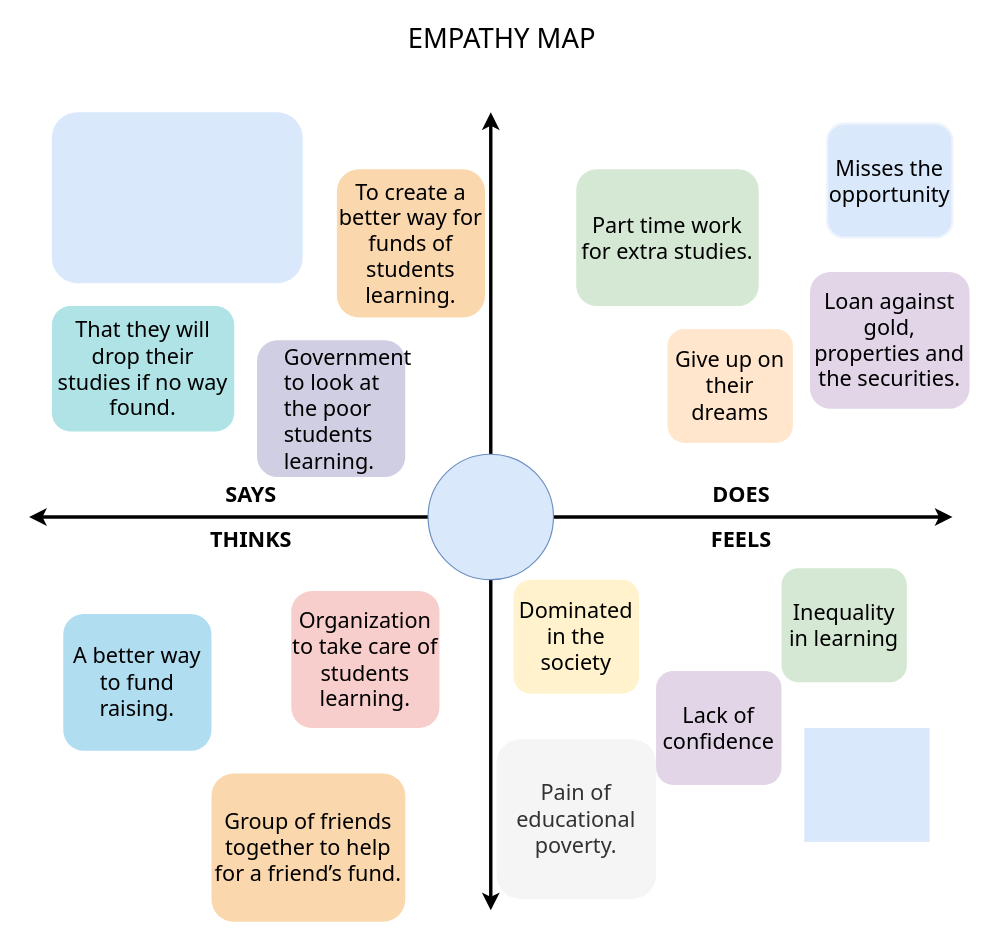
The diagram is 990 pixels wide and 941 high, and some of its shapes have lost their labels. The shapes that lost their labels are listed below. From the top down, each one's box as (x1, y1, x2, y2) in pixels, then its label:
(51, 112, 302, 283): To create a portal to unite all students together to support funding.
(427, 453, 553, 580): USER
(804, 727, 929, 841): Loss of dream
